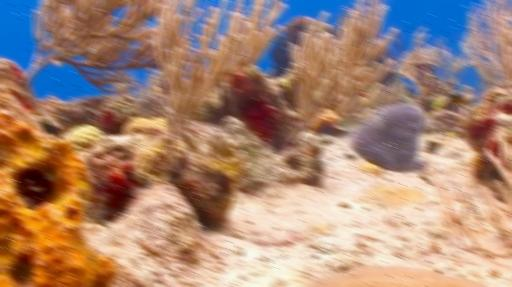Fish: (433, 91, 475, 110), (335, 116, 368, 130), (30, 186, 44, 191)
